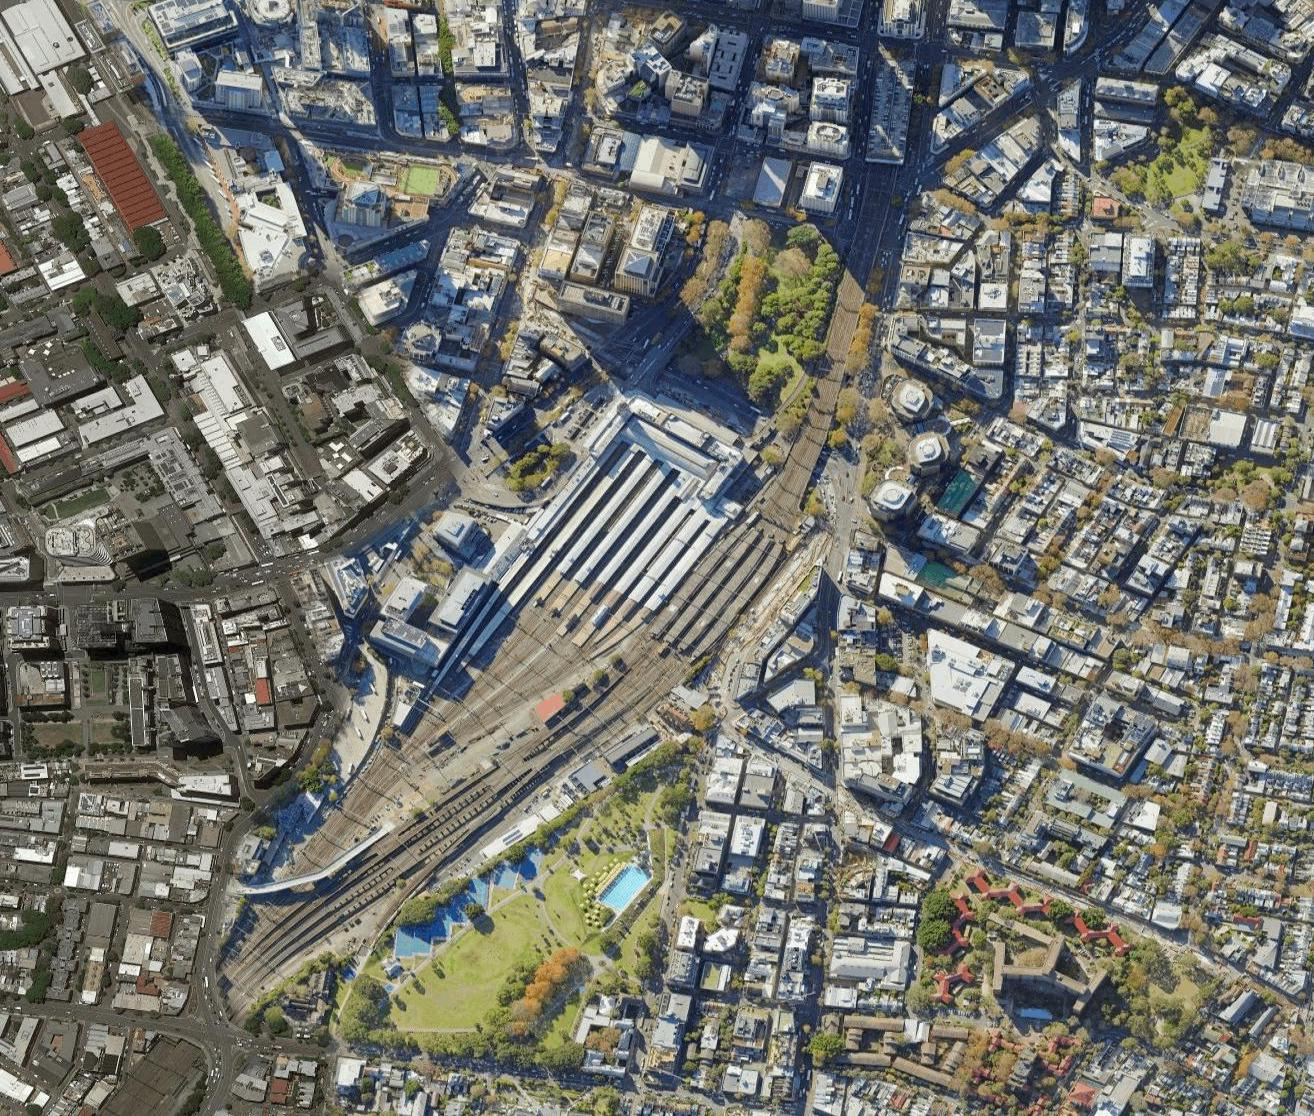train_station: (514, 412, 782, 652)
